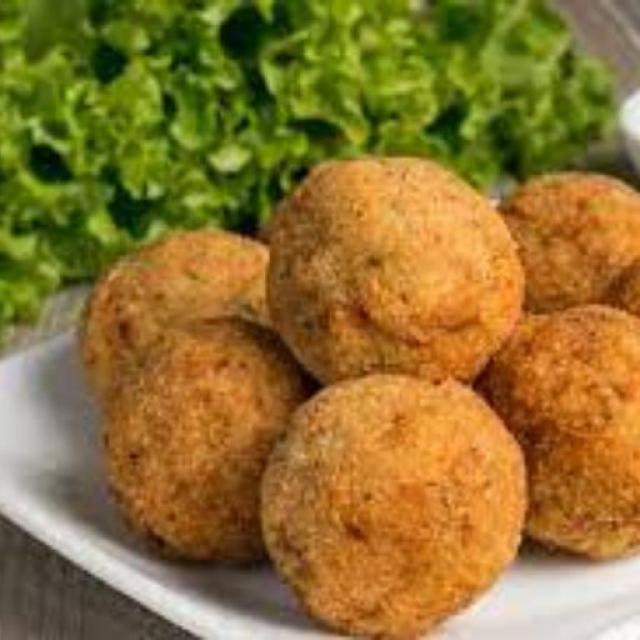Cutlet: (273, 364, 526, 628), (272, 152, 511, 380), (113, 320, 284, 565)
